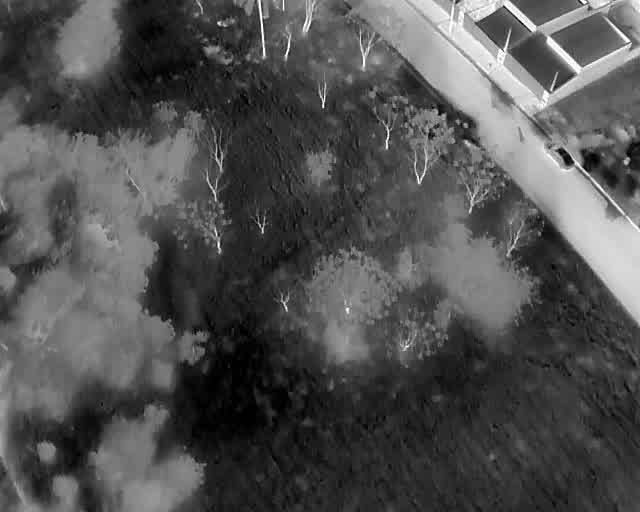car: (542, 141, 576, 170)
